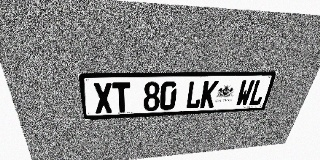0: (159, 81, 178, 110)
8: (143, 81, 161, 111)
K: (200, 80, 219, 108)
L: (248, 79, 269, 106), (185, 81, 204, 109)
T: (112, 82, 130, 113)
W: (235, 80, 255, 106)
X: (93, 82, 113, 114)
